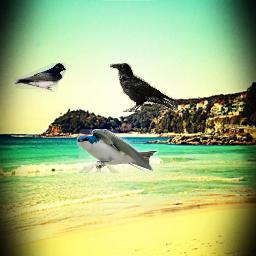Crow: (110, 63, 177, 112)
Swallow: (77, 129, 158, 173), (14, 63, 66, 92)
